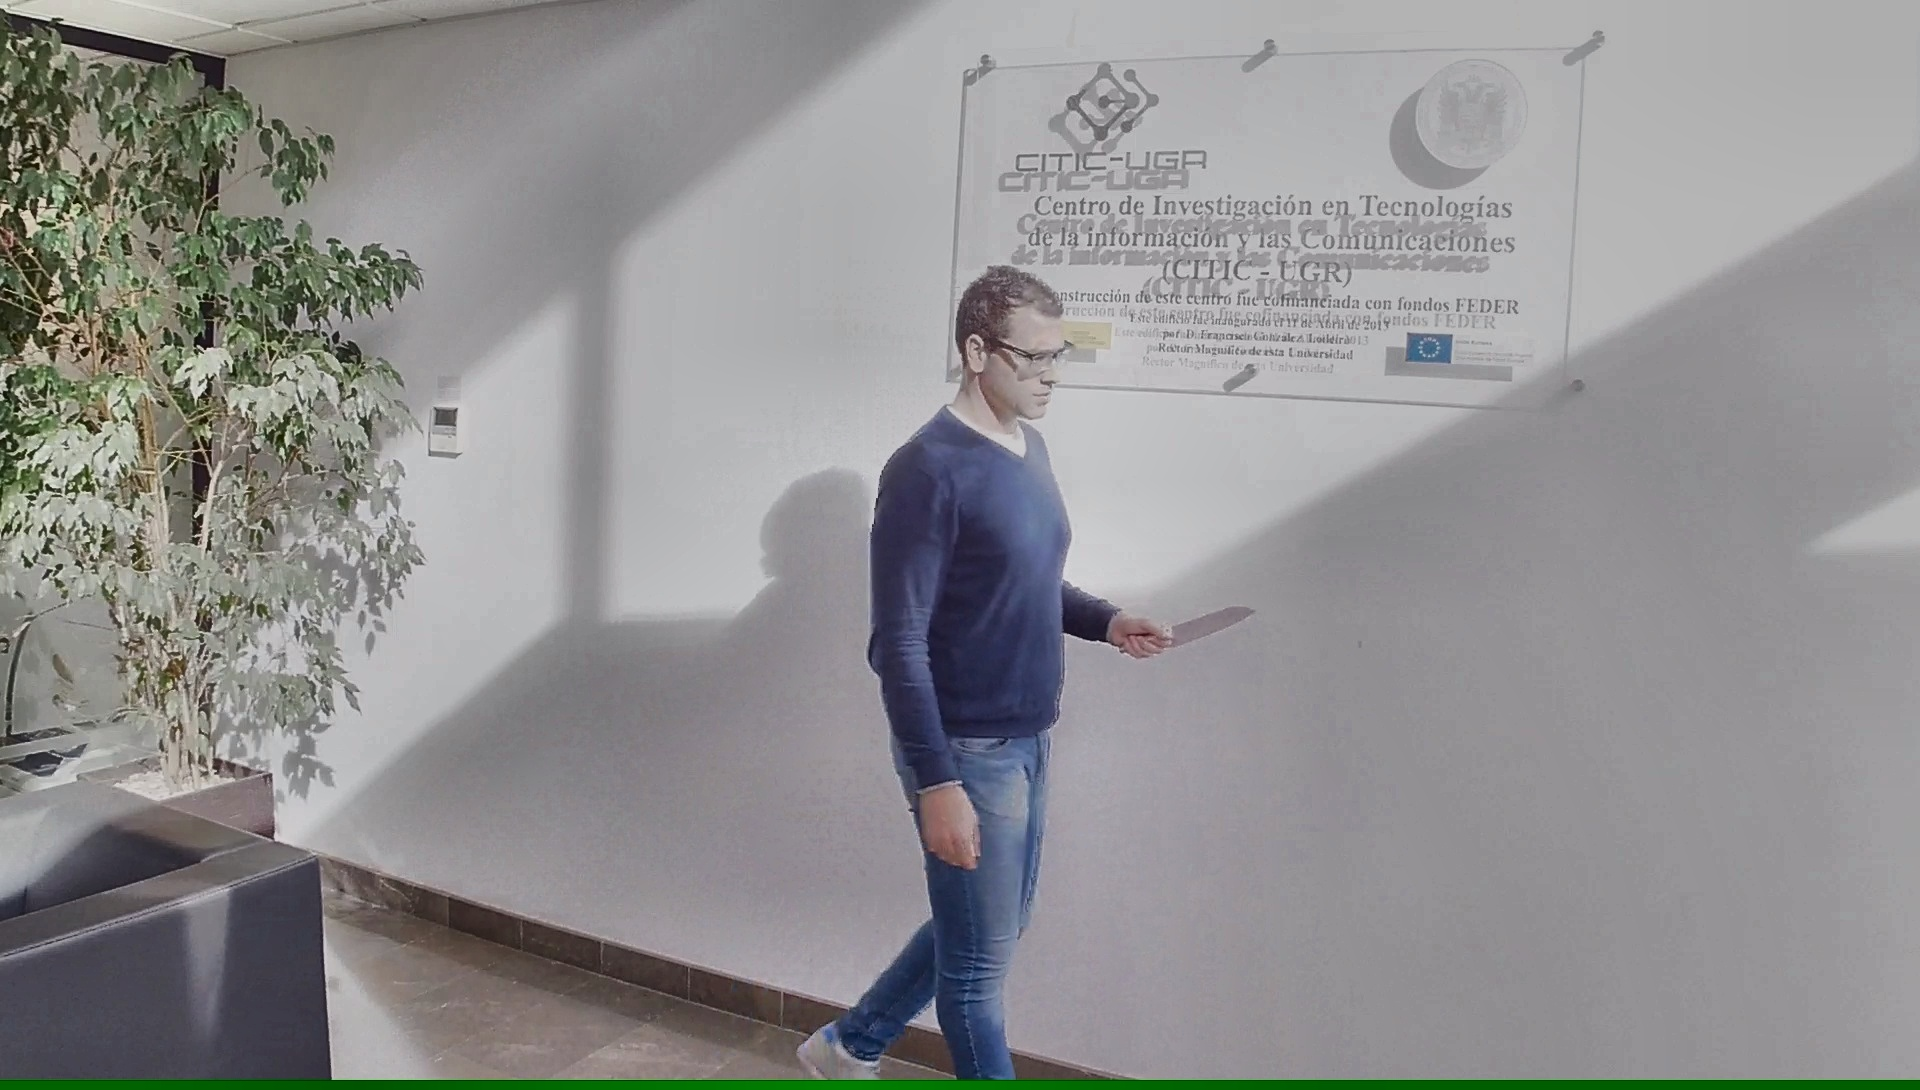knife: (1110, 604, 1269, 662)
